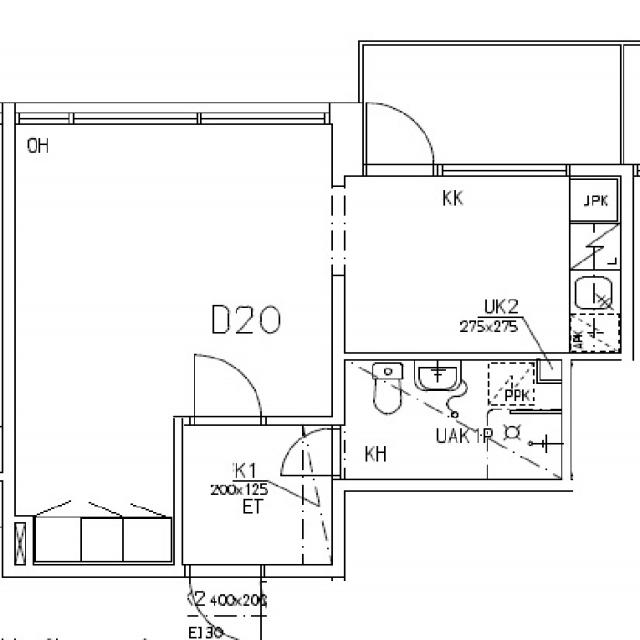door: (191, 564, 261, 640), (366, 101, 434, 176), (194, 354, 260, 424), (282, 428, 345, 475)
